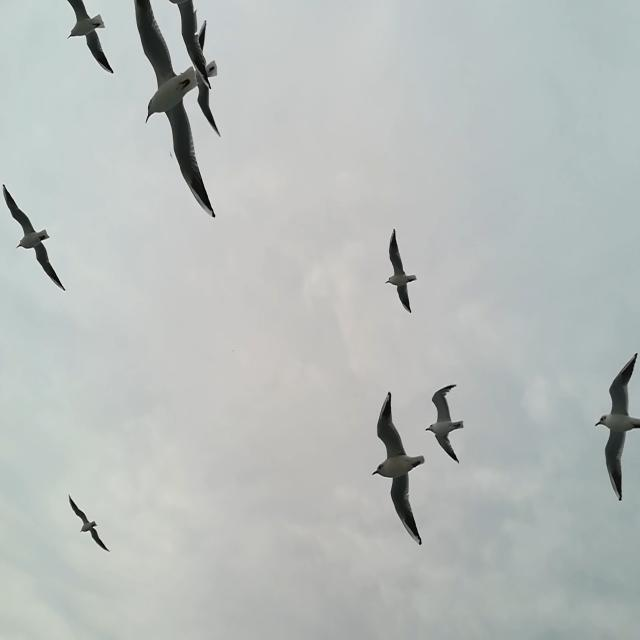bird: (134, 0, 216, 218), (372, 390, 425, 544), (2, 182, 66, 292), (593, 353, 640, 501), (180, 20, 221, 138), (168, 0, 213, 91), (65, 1, 114, 74), (424, 383, 464, 467), (385, 228, 417, 315), (68, 495, 111, 552), (168, 150, 173, 160)
